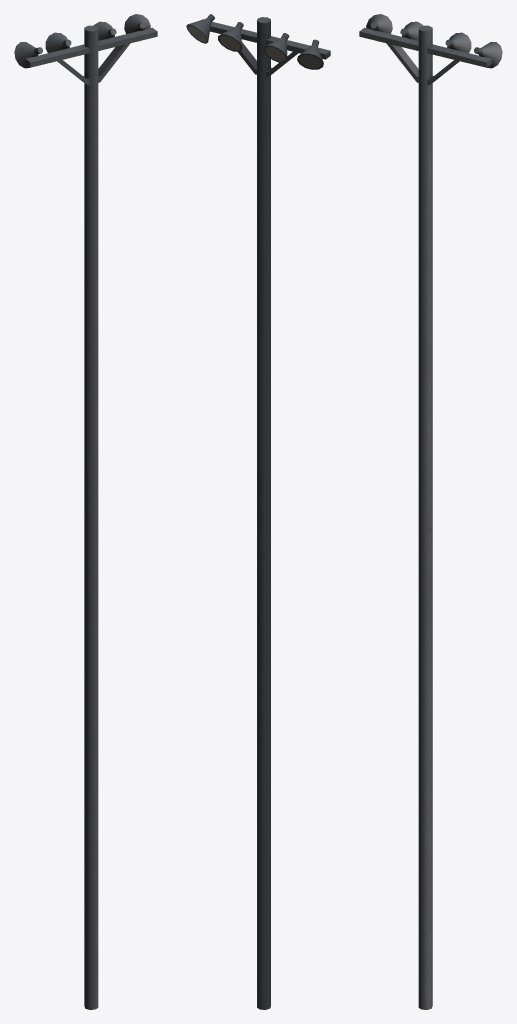
The model's file is light.fbx.
3 views of the same model, side by side, from view 1: azimuth 30°, elevation 25°; view 2: azimuth 150°, elevation 25°; view 3: azimuth 330°, elevation 25° (orthographic).
Parts seen in each view (by area): view 1: Cylinder; view 2: Cylinder; view 3: Cylinder.
Boxes of the visible parts, left/top/right/bottom form: Cylinder: left=14, top=14, right=157, bottom=1009; Cylinder: left=186, top=14, right=330, bottom=1009; Cylinder: left=359, top=14, right=502, bottom=1009.
Size of the model in its own units: 252 by 1743 by 58.54.
1 material, 1 textured.
